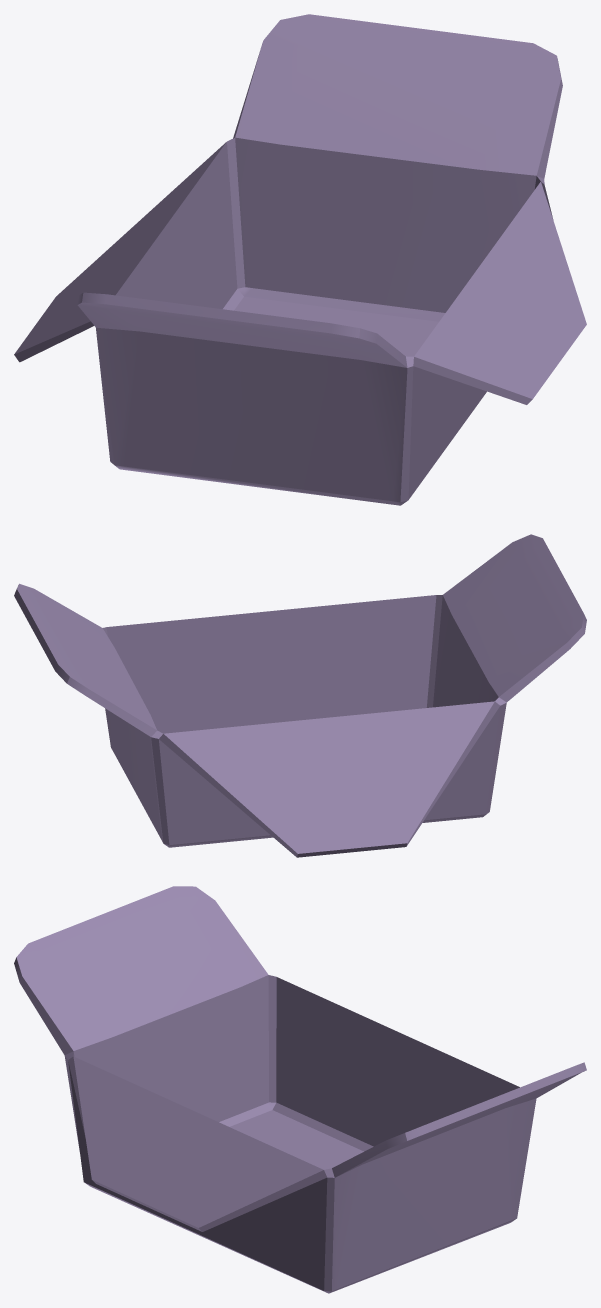
The model's file is PROPS_GOODS_CALISSON_MODEL_grp.fbx.
The picture shows the model from 3 angles, top to bottom: view 1: azimuth 30°, elevation 25°; view 2: azimuth 150°, elevation 25°; view 3: azimuth 270°, elevation 25°; orthographic projection. The views are drawn at different scales.
Visible parts, largest first — view 1: PROPS_GOODS_CALISSON_BOX_MODEL; view 2: PROPS_GOODS_CALISSON_BOX_MODEL; view 3: PROPS_GOODS_CALISSON_BOX_MODEL.
Part boxes in pixels (x1,y1,x2,y2): PROPS_GOODS_CALISSON_BOX_MODEL: (14,14,586,505); PROPS_GOODS_CALISSON_BOX_MODEL: (14,534,586,857); PROPS_GOODS_CALISSON_BOX_MODEL: (14,886,586,1293).
Bounding box in the file's own units: 19.94 × 7.46 × 19.38.
